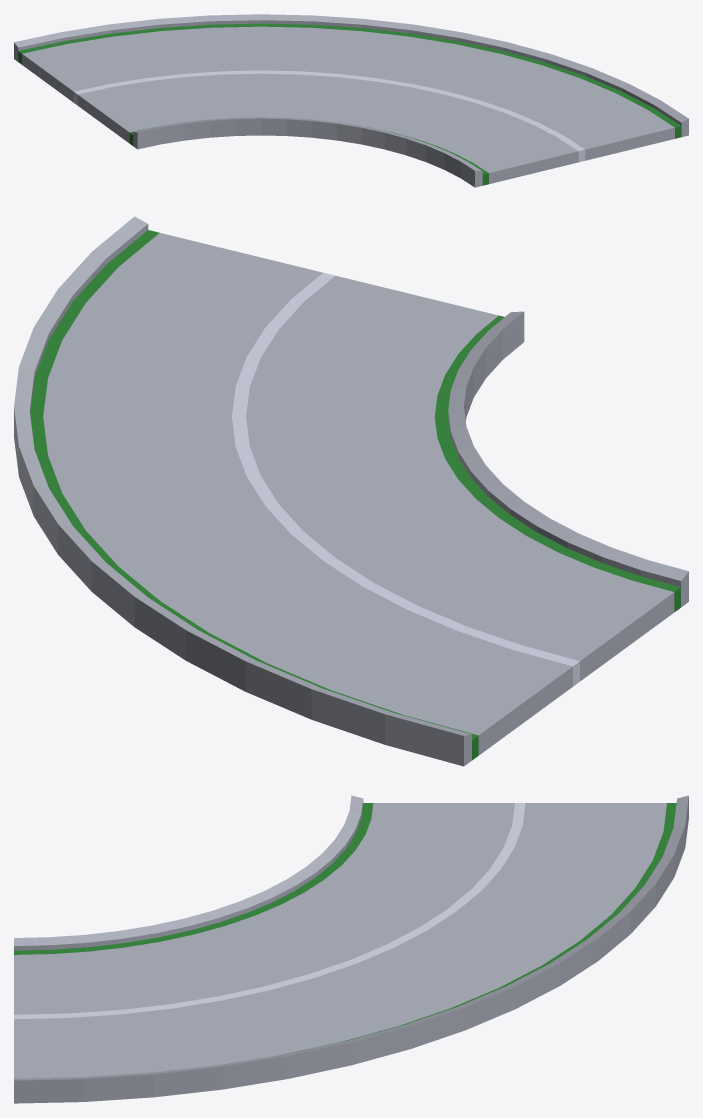
File: flat_large_turn.glb
The picture shows the model from 3 angles, top to bottom: view 1: azimuth 30°, elevation 25°; view 2: azimuth 150°, elevation 25°; view 3: azimuth 270°, elevation 25°; orthographic projection. The views are drawn at different scales.
Parts seen in each view (by area): view 1: flat_large_turn; view 2: flat_large_turn; view 3: flat_large_turn.
Boxes of the visible parts, x1=… form: flat_large_turn: x1=14, y1=14, x2=688, y2=187; flat_large_turn: x1=14, y1=216, x2=688, y2=766; flat_large_turn: x1=14, y1=795, x2=688, y2=1103.
Size of the model in its own units: 40 by 1.5 by 40.
